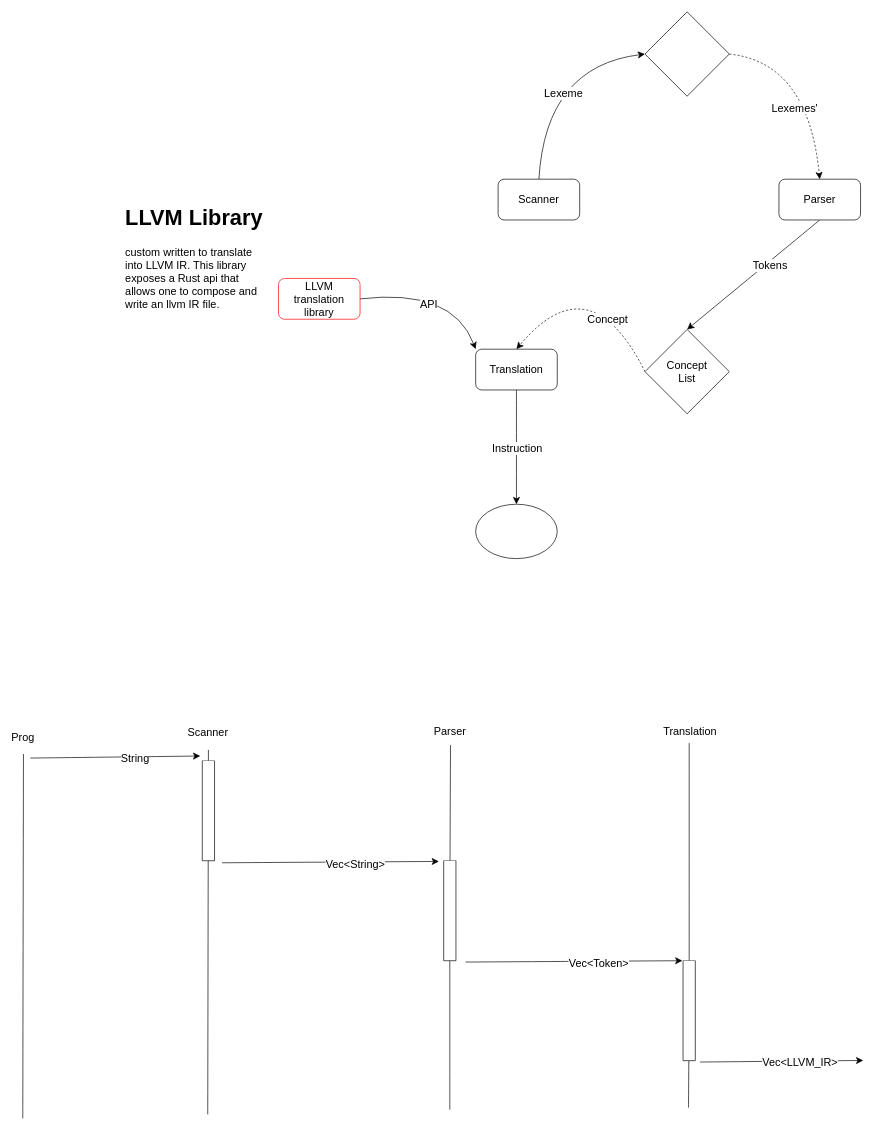
The diagram is 875 pixels wide and 1131 high, and some of its shapes have lost their labels. The shapes that lost their labels are listed below. From the top down, each one's centre as x and y in pixels, then its label:
At (x=686, y=53): "Lexeme List".
At (x=516, y=531): "LLVM IR".
